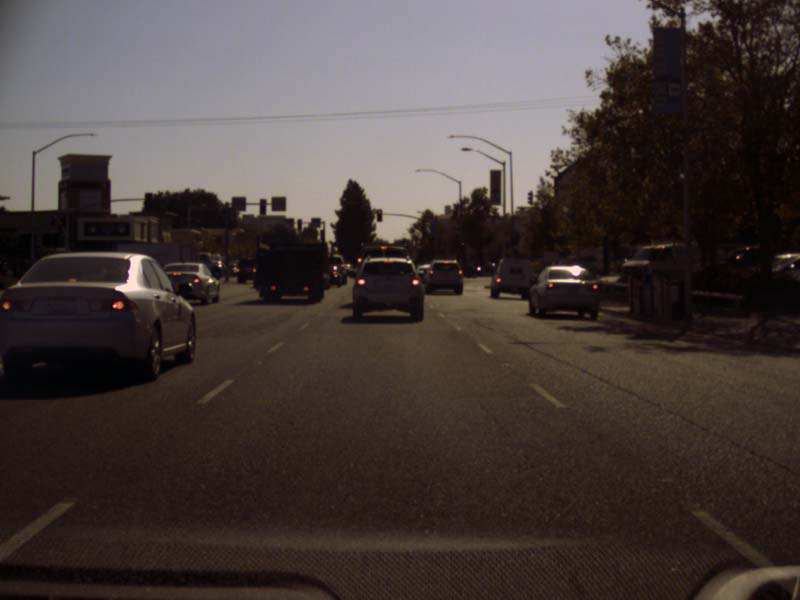Red: (376, 208, 382, 221), (460, 238, 465, 246)
